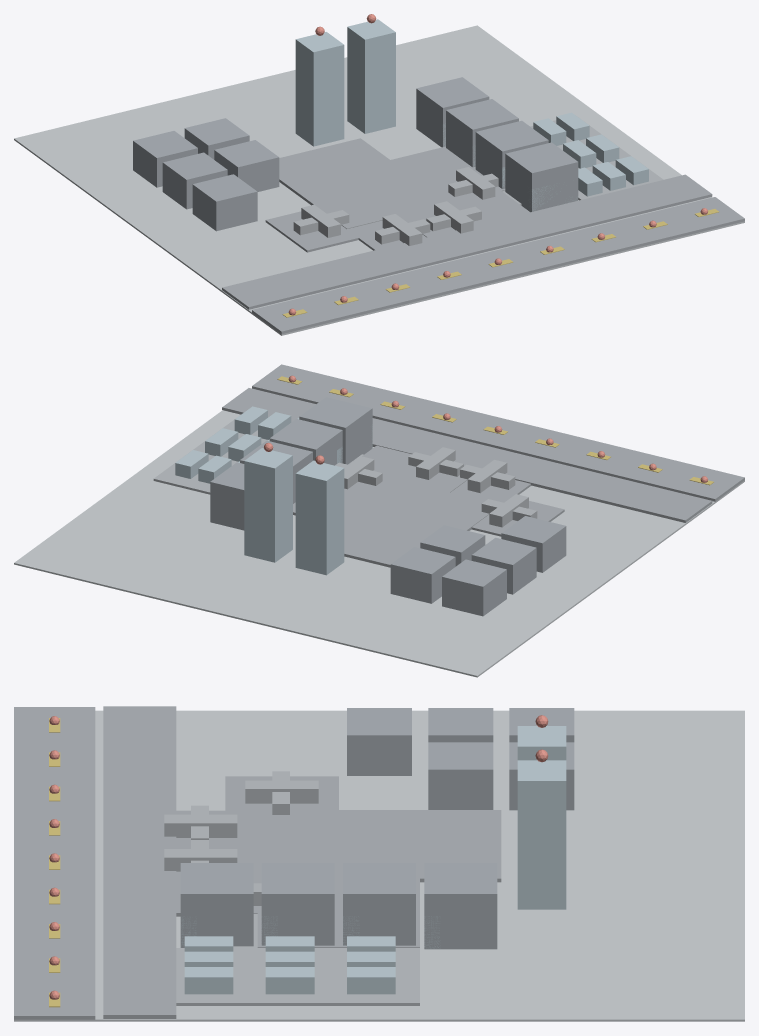
The model's file is stage_25.glb.
The picture shows the model from 3 angles, top to bottom: view 1: azimuth 30°, elevation 25°; view 2: azimuth 150°, elevation 25°; view 3: azimuth 270°, elevation 25°; orthographic projection. The views are drawn at different scales.
Visible parts, largest first — view 1: geometry_0; view 2: geometry_0; view 3: geometry_0.
Boxes of the visible parts, x1,y1,x2,y2 form: geometry_0: (14,14,744,335); geometry_0: (14,364,744,677); geometry_0: (14,706,744,1021).
Size of the model in its own units: 9 by 2.06 by 9.
